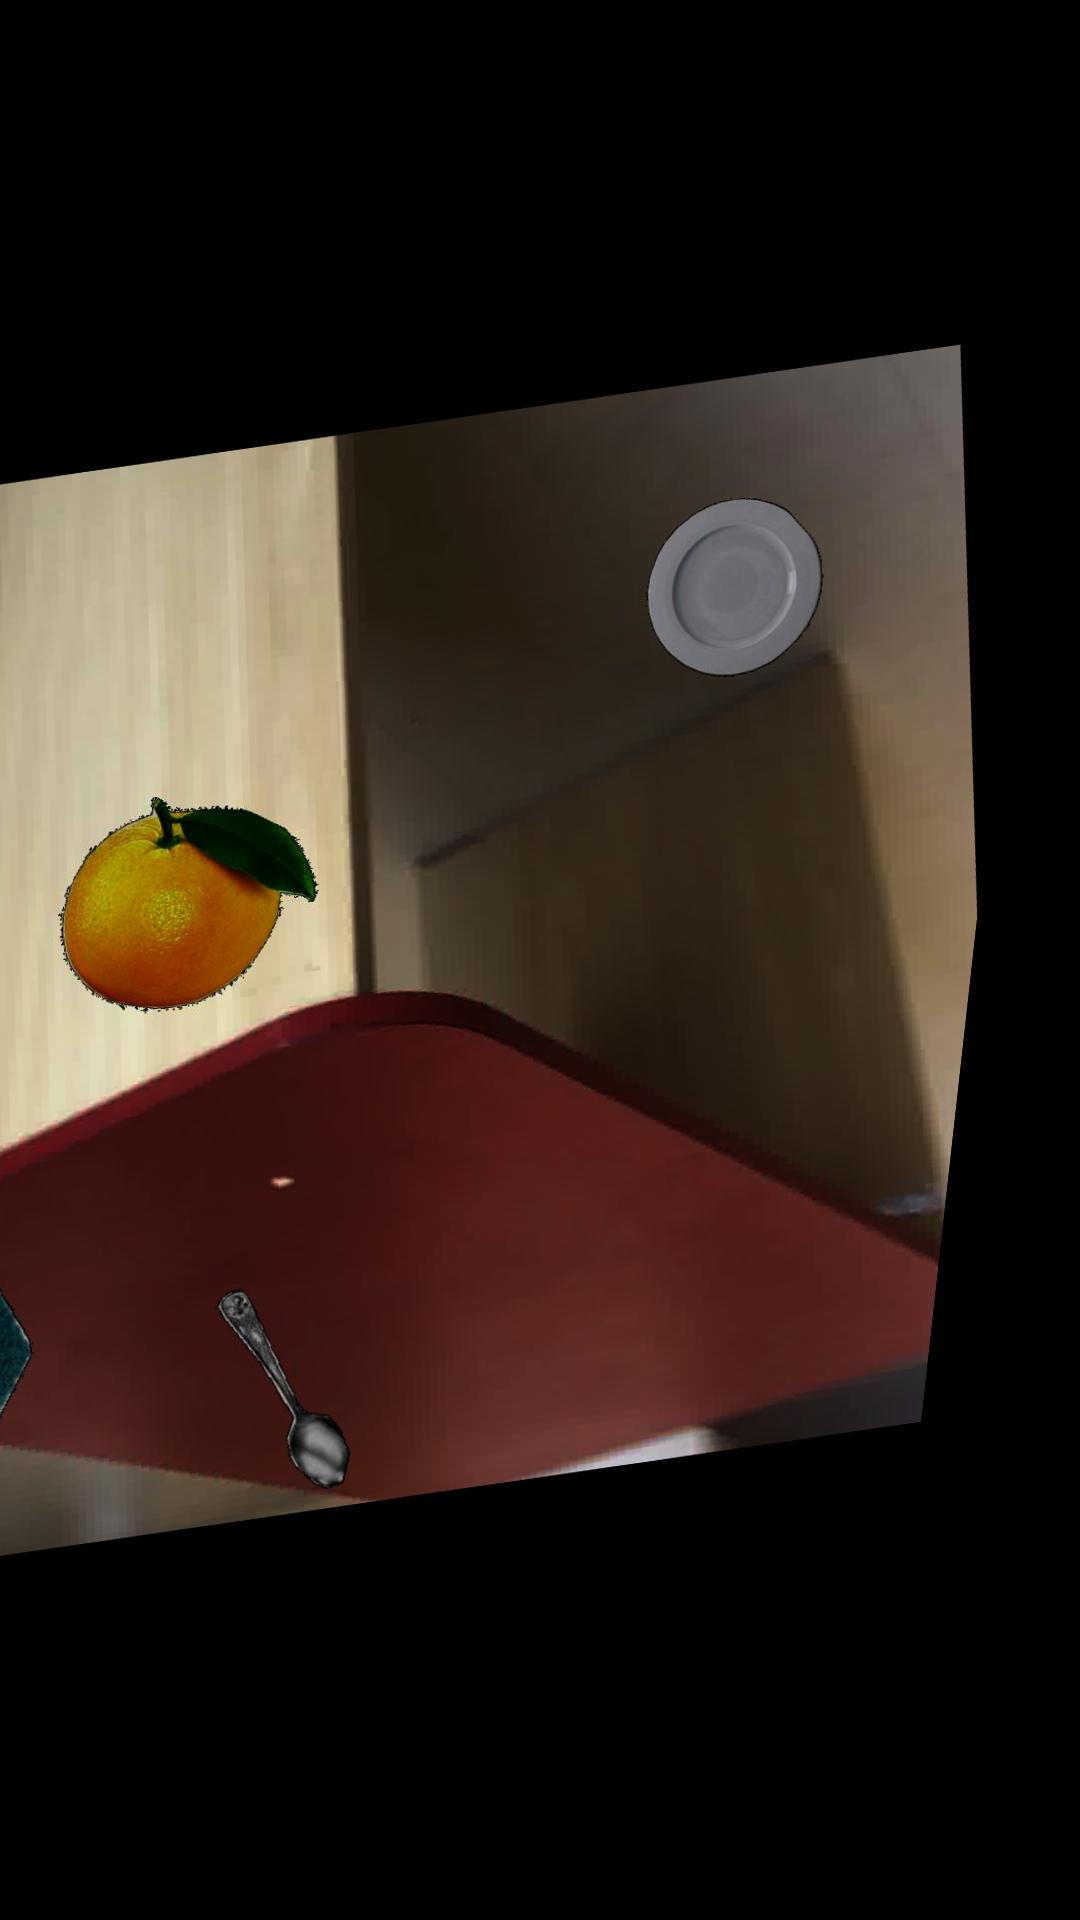orange: (83, 795, 340, 1009)
plate: (663, 496, 839, 675)
sponge: (0, 1279, 66, 1486)
spoon: (249, 1286, 386, 1486)
